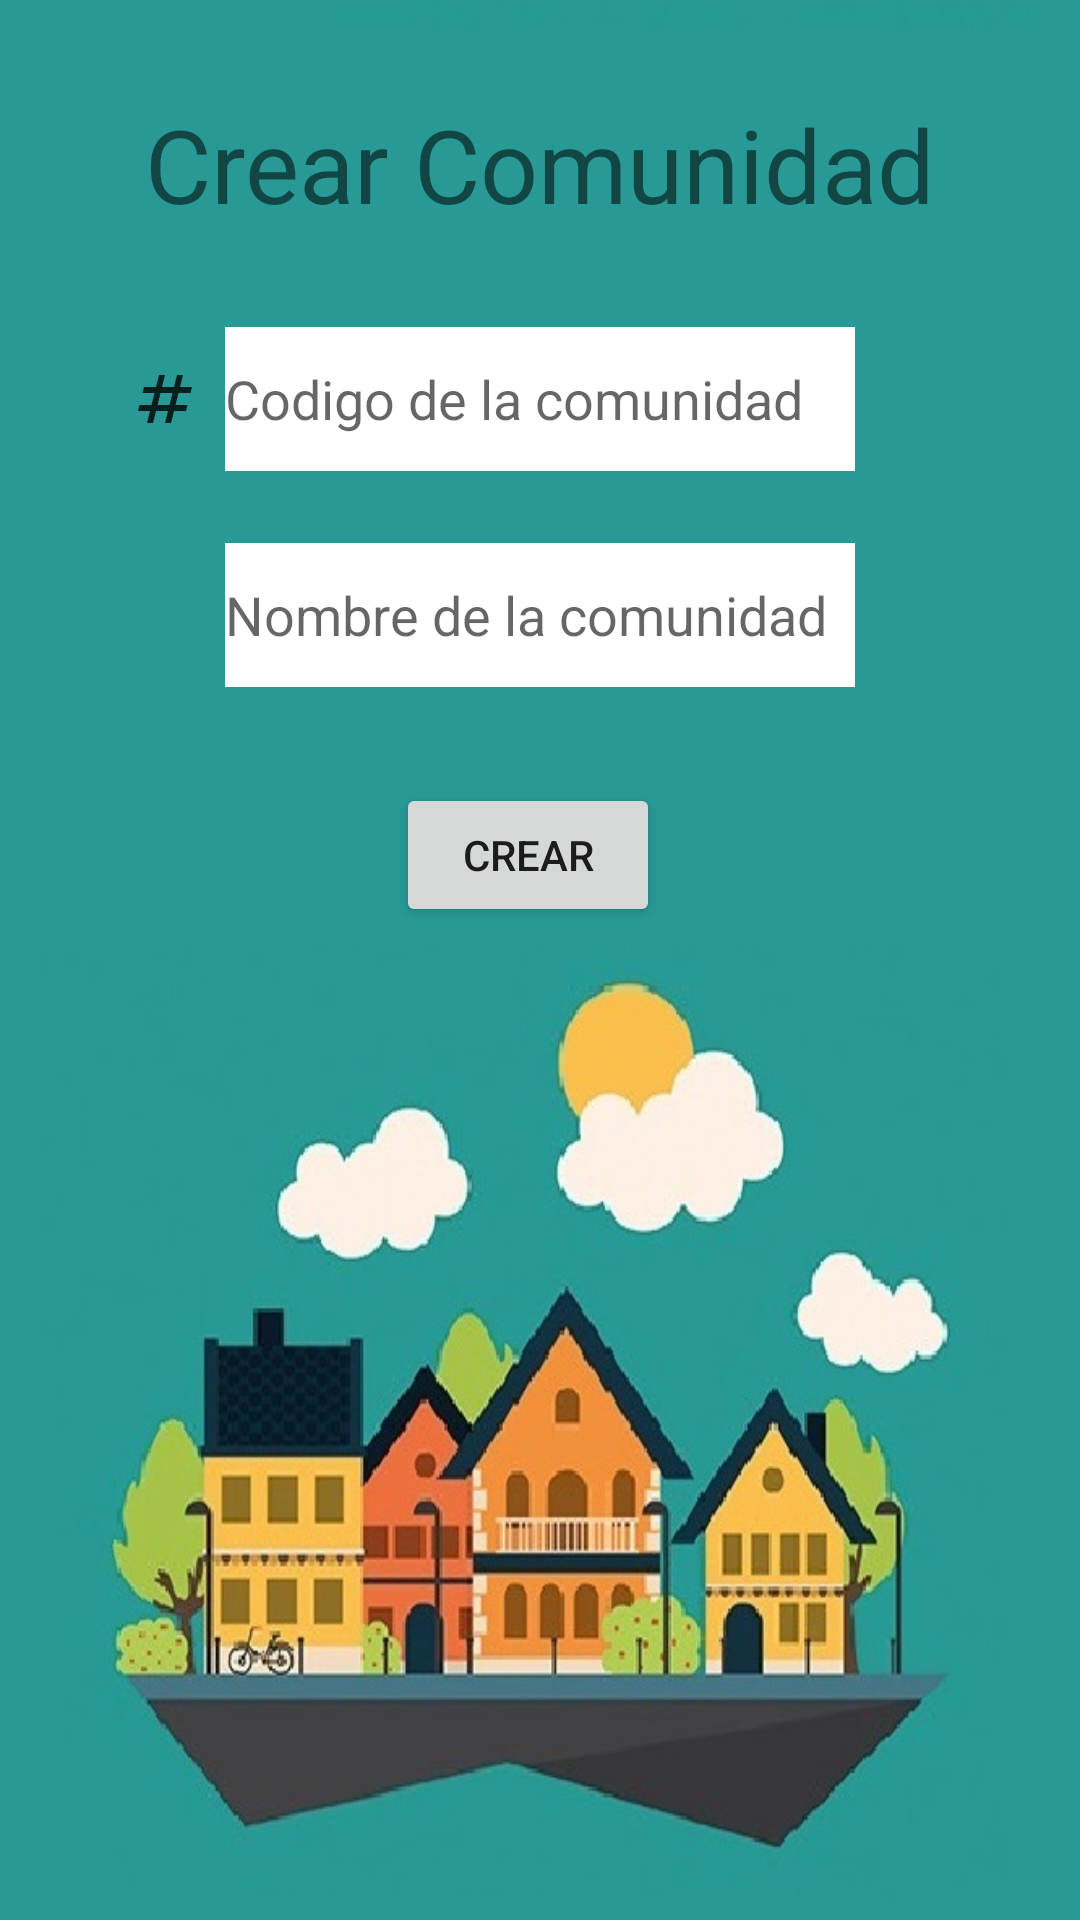

Where icons sit on this 1080w x 1920h app screen, as (x1, y1, x2, y2):
code: (138, 375, 192, 423)
